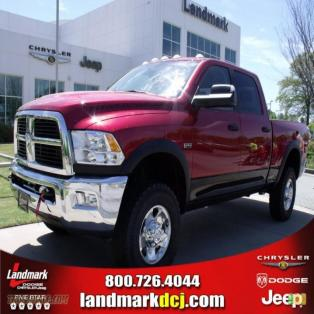Auto: (9, 54, 311, 268)
